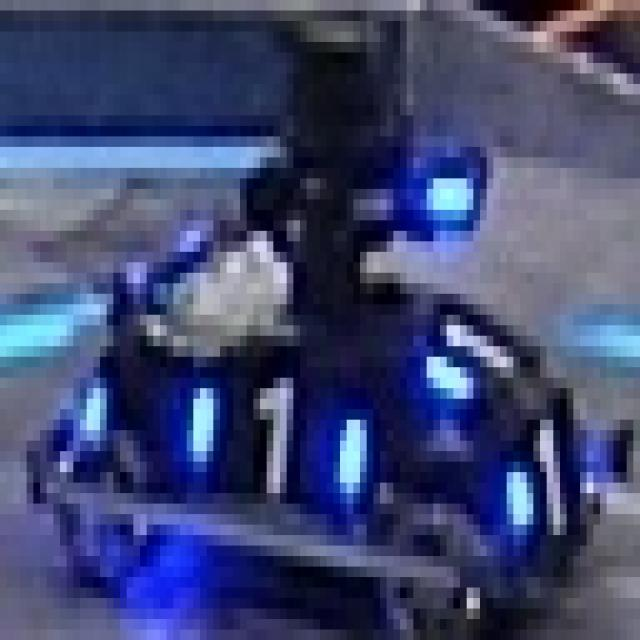B1: (180, 357, 373, 514)
